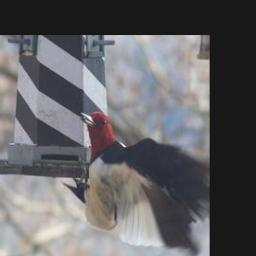Woodpecker: (67, 102, 210, 253)
